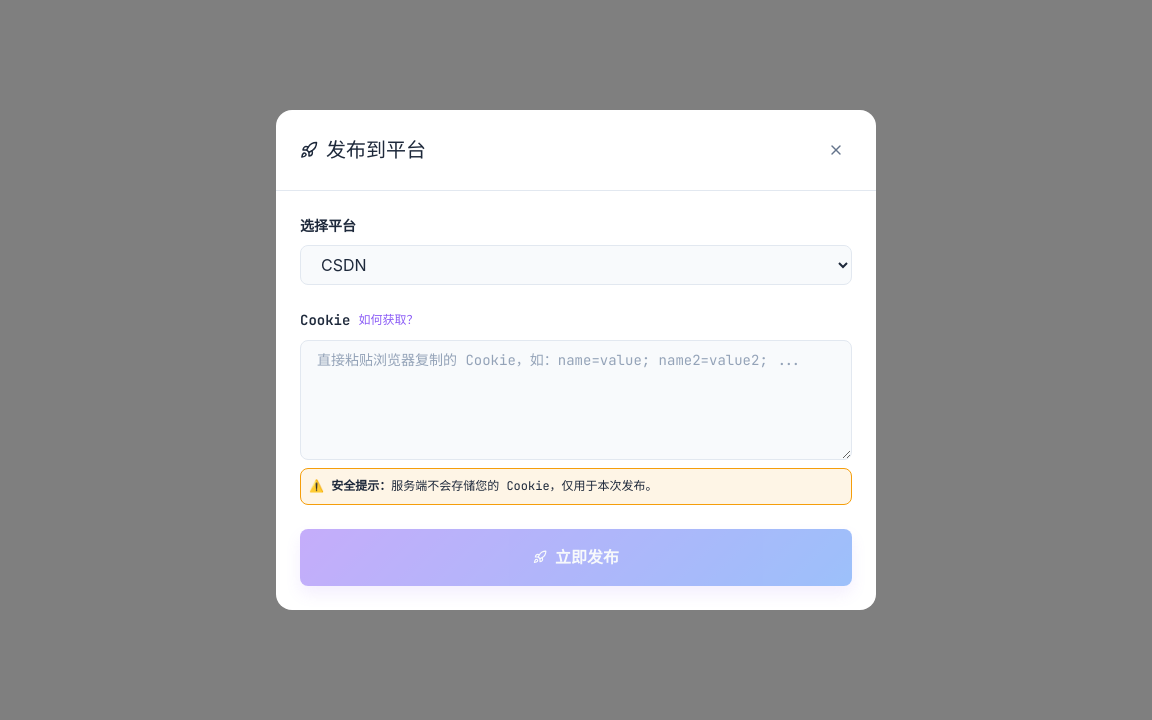
Test case: PublishModal.vue › help toggle › should show help when help link is clicked
Click the link "如何获取？": (388, 320) 358,311 -> 418,330
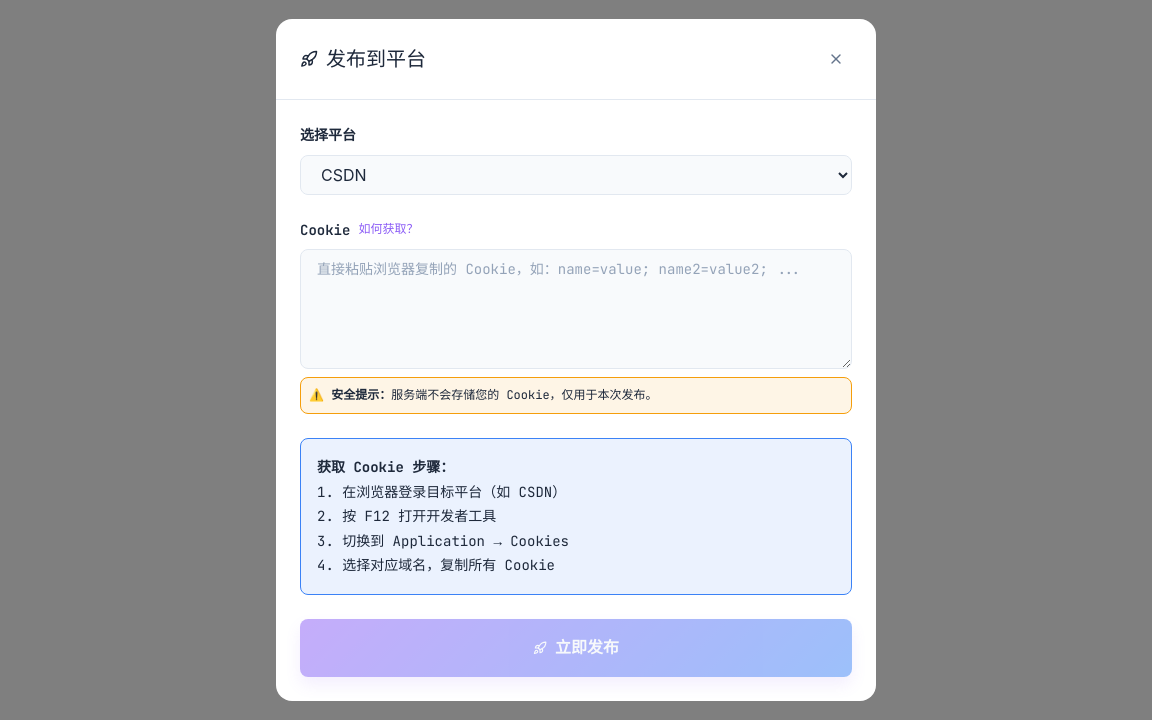
Result: the element with class "cookie-help" is shown at 300,438 -> 852,595
Result: the element with class "cookie-help" shows "获取 Cookie 步骤" at 317,458 -> 454,476
